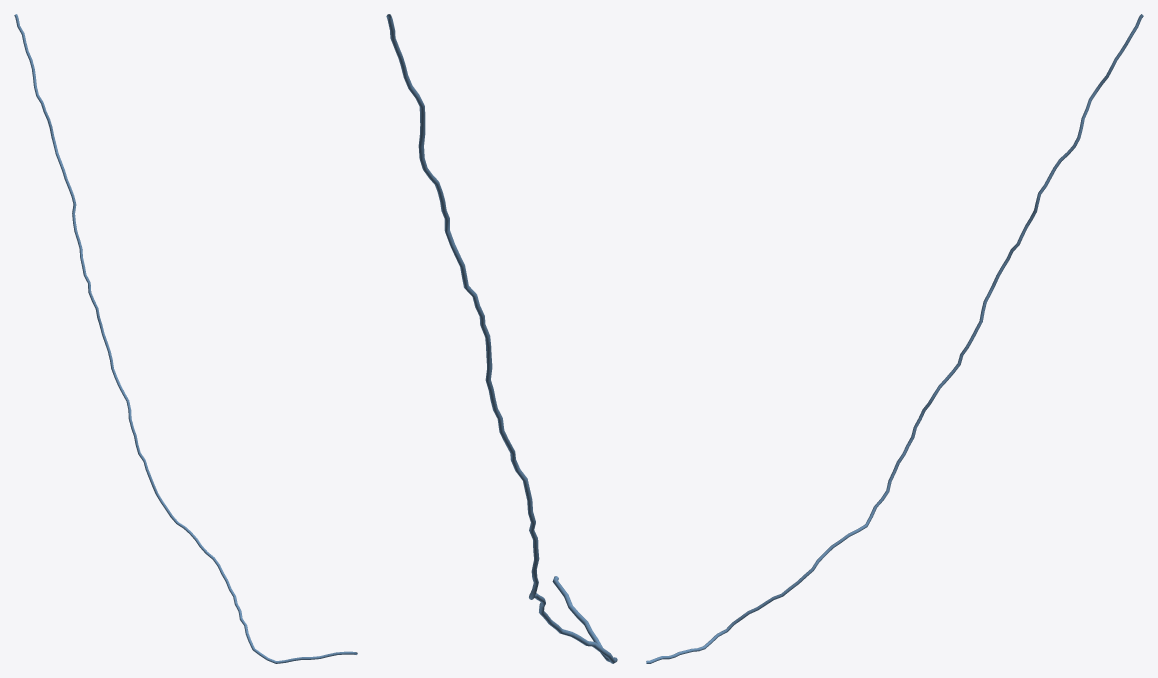
File: sweep232.fbx
3 renders of one model, left to right at view 1: azimuth 30°, elevation 25°; view 2: azimuth 150°, elevation 25°; view 3: azimuth 270°, elevation 25°, orthographic. The views are drawn at different scales.
Parts seen in each view (by area): view 1: sweep232; view 2: sweep232; view 3: sweep232.
Part boxes in pixels (x1,y1,x2,y2): sweep232: (14, 14, 357, 663); sweep232: (386, 14, 617, 663); sweep232: (646, 14, 1143, 663).
Size of the model in its own units: 0.9491 by 3.8 by 2.87.
